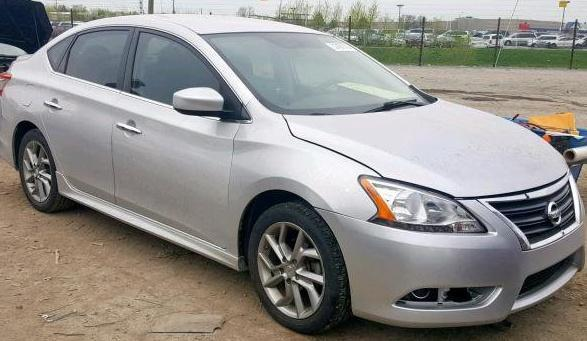Cars: (1, 16, 585, 333)
